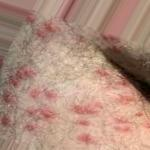Ants: (31, 100, 58, 126), (75, 129, 101, 149), (19, 117, 43, 135), (14, 62, 37, 80), (41, 84, 61, 104), (96, 32, 120, 44), (74, 104, 99, 113), (7, 72, 22, 87), (113, 123, 135, 132), (94, 65, 108, 79), (43, 21, 59, 32), (118, 94, 135, 104), (0, 114, 12, 128), (24, 12, 36, 23), (4, 92, 15, 103), (75, 119, 92, 126), (33, 28, 44, 37), (135, 110, 146, 118), (30, 90, 40, 98), (117, 78, 127, 86)
